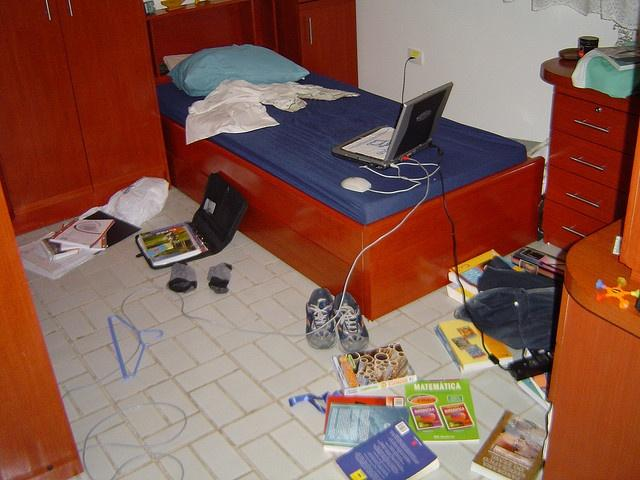Lemari: (0, 0, 173, 235)
